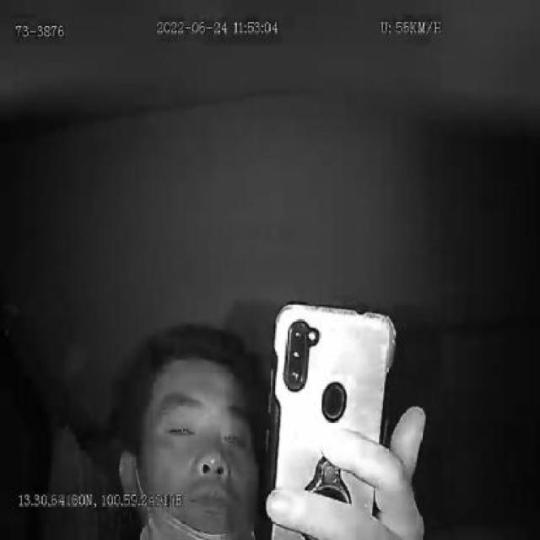phone: (262, 297, 405, 540)
